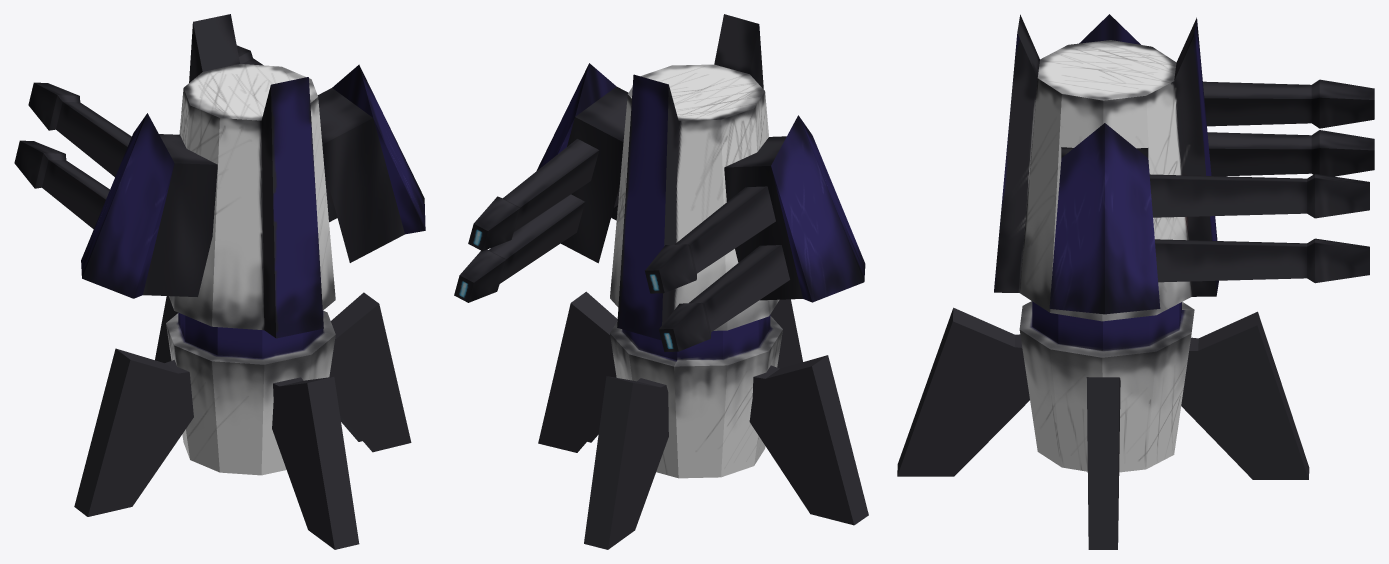
Rendered from TDTowerNormal3.fbx.
3 renders of one model, left to right at view 1: azimuth 30°, elevation 25°; view 2: azimuth 150°, elevation 25°; view 3: azimuth 270°, elevation 25°, orthographic. The views are drawn at different scales.
Visible parts, largest first — view 1: polySurface451, polySurface474; view 2: polySurface451, polySurface474; view 3: polySurface451, polySurface474.
Boxes of the visible parts, x1=… form: polySurface451: x1=14, y1=14, x2=425, y2=338; polySurface474: x1=74, y1=292, x2=411, y2=549; polySurface451: x1=454, y1=14, x2=865, y2=352; polySurface474: x1=538, y1=291, x2=868, y2=549; polySurface451: x1=994, y1=14, x2=1374, y2=321; polySurface474: x1=897, y1=301, x2=1309, y2=549.
Size of the model in its own units: 13.33 by 15.87 by 15.37.
